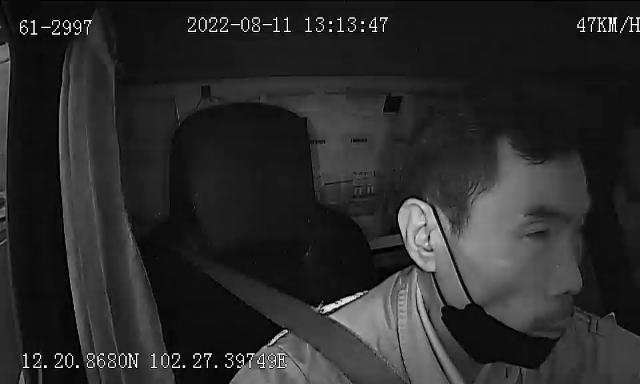Seatbelt: (208, 260, 408, 384)
